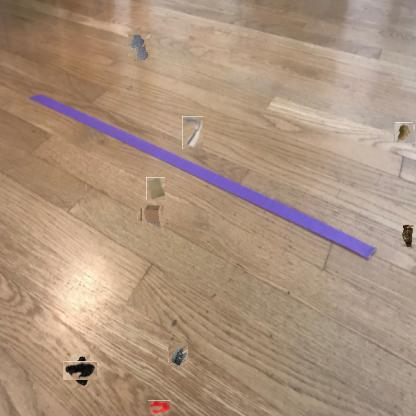dirty: (67, 358, 94, 384), (182, 116, 203, 149), (139, 204, 163, 228), (168, 343, 188, 367), (146, 177, 165, 200), (400, 223, 416, 249), (395, 123, 414, 143)
liquid: (128, 34, 150, 60), (148, 400, 170, 415)
